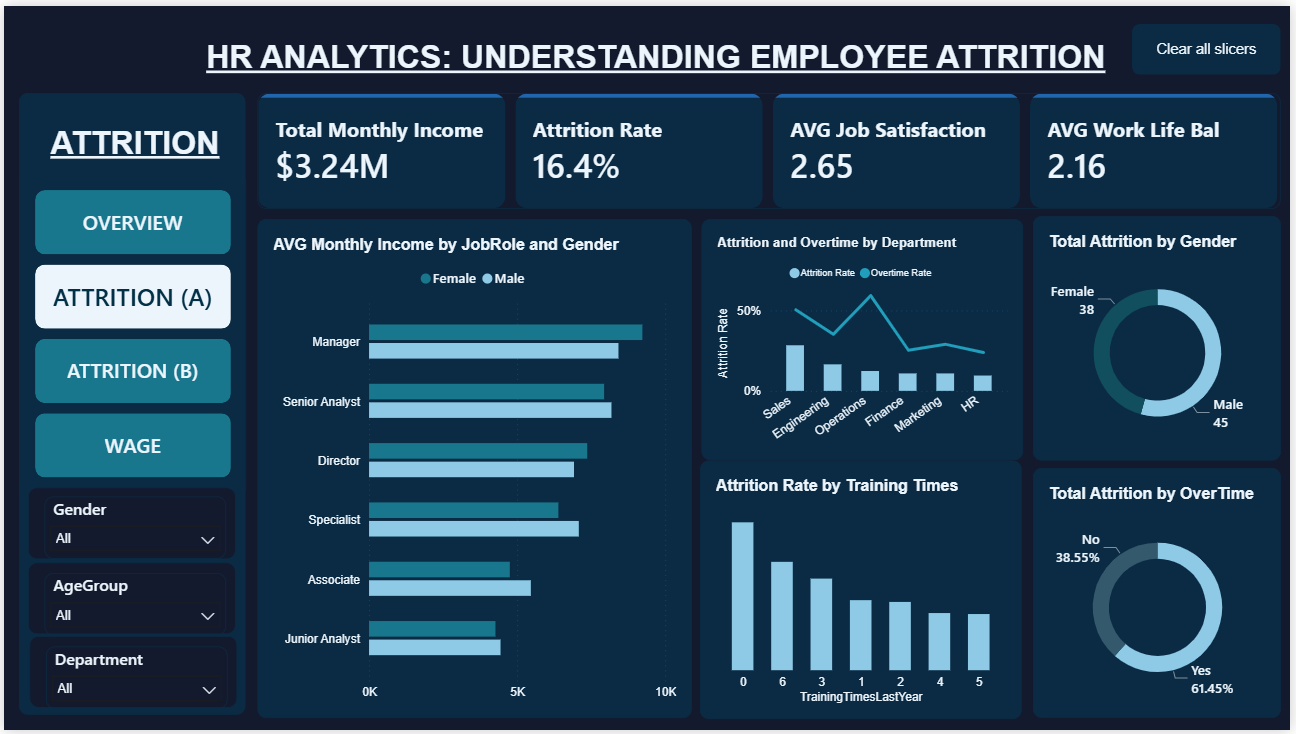

The page's visual inventory and layout, read from the dashboard file:
{"tool":"powerbi","page":{"name":"ATTRITION (A)","canvas":[1280,720],"ordinal":1},"visuals":[{"type":"cardVisual","fields":{"Data":["measure.Total Monthly Income","measure.Attrition Rate","measure.AVG Job Satisfaction","measure.AVG Work Life Bal"]},"box":[252.3,86.5,1018.2,115.5],"z":0},{"type":"donutChart","fields":{"Category":["hr_attrition employee.Gender"],"Y":["measure.Total Attrition"]},"box":[1023.3,208.3,246.7,243.3],"z":1000},{"type":"clusteredBarChart","fields":{"Category":["hr_attrition employee.JobRole"],"Y":["measure.AVG Monthly Income"],"Series":["hr_attrition employee.Gender"]},"box":[251.7,211.7,431.7,496.7],"z":2000},{"type":"donutChart","fields":{"Y":["measure.Total Attrition"],"Category":["hr_attrition employment.OverTime"]},"box":[1023.3,460,246.7,248.3],"z":3000},{"type":"shape","box":[15,86.7,225,618.3],"z":4000},{"type":"textbox","box":[40,118.3,180,68.3],"z":5000},{"type":"lineStackedColumnComboChart","title":"Attrition and Overtime by Department","fields":{"Category":["hr_attrition employee.Department"],"Y":["measure.Attrition Rate"],"Y2":["measure.Overtime Rate"]},"box":[693.3,211.7,320,240],"z":6000},{"type":"textbox","box":[91.7,33.3,1115,70],"z":7000},{"type":"columnChart","title":"Attrition Rate by Training Times","fields":{"Category":["hr_attrition employment.TrainingTimesLastYear"],"Y":["measure.Attrition Rate"]},"box":[693,452,320,257],"z":8000},{"type":"pageNavigator","box":[14.6,167.5,226.1,320.4],"z":9000},{"type":"shape","box":[24.4,478.9,206.6,71.6],"z":10000},{"type":"slicer","fields":{"Values":["hr_attrition employee.Gender"]},"box":[40.7,488.7,180.5,61.8],"z":11000},{"type":"shape","box":[24.6,554,206.6,71.6],"z":12000},{"type":"slicer","fields":{"Values":["hr_attrition employee.AgeGroup"]},"box":[40.8,563.8,180.5,61.8],"z":13000},{"type":"shape","box":[24.9,627.1,206.6,71.6],"z":14000},{"type":"slicer","fields":{"Values":["hr_attrition employee.Department"]},"box":[41.1,636.9,180.5,61.8],"z":15000},{"type":"actionButton","box":[1122.3,17.9,148,50.4],"z":16000}]}

Visuals, with their boxes in screenshot pixels (x1, y1, x2, y2), scaled from the page's 1280x720 canvas onto the 1296x734 screenshot:
cardVisual - measure.Total Monthly Income x measure.Attrition Rate: rect(255, 88, 1286, 206)
donutChart - hr_attrition employee.Gender x measure.Total Attrition: rect(1036, 212, 1286, 460)
clusteredBarChart - hr_attrition employee.JobRole x measure.AVG Monthly Income: rect(255, 216, 692, 722)
donutChart - measure.Total Attrition x hr_attrition employment.OverTime: rect(1036, 469, 1286, 722)
shape: rect(15, 88, 243, 719)
textbox: rect(40, 121, 223, 190)
"Attrition and Overtime by Department" lineStackedColumnComboChart: rect(702, 216, 1026, 460)
textbox: rect(93, 34, 1222, 105)
"Attrition Rate by Training Times" columnChart: rect(702, 461, 1026, 723)
pageNavigator: rect(15, 171, 244, 497)
shape: rect(25, 488, 234, 561)
slicer - hr_attrition employee.Gender: rect(41, 498, 224, 561)
shape: rect(25, 565, 234, 638)
slicer - hr_attrition employee.AgeGroup: rect(41, 575, 224, 638)
shape: rect(25, 639, 234, 712)
slicer - hr_attrition employee.Department: rect(42, 649, 224, 712)
actionButton: rect(1136, 18, 1286, 70)
